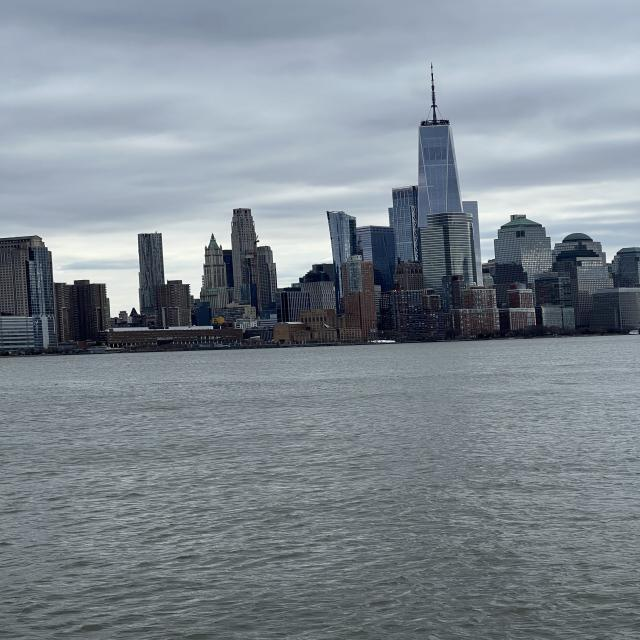WTC: (416, 62, 464, 216)
